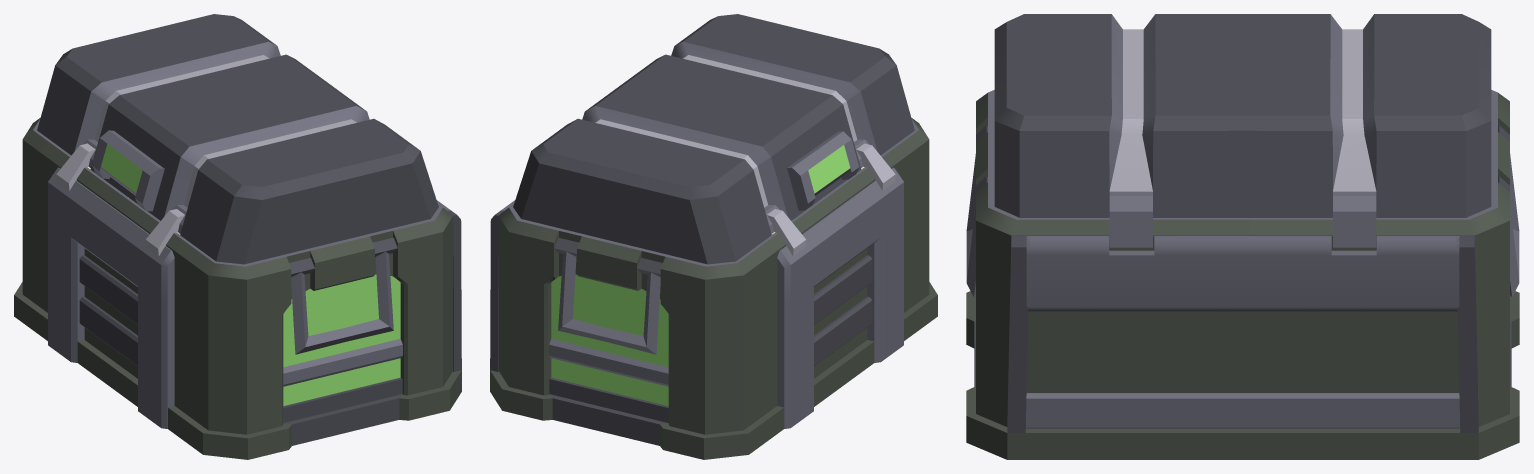
The model's file is AmmoBox.fbx.
3 views of the same model, side by side, from view 1: azimuth 30°, elevation 25°; view 2: azimuth 150°, elevation 25°; view 3: azimuth 270°, elevation 25° (orthographic). The views are drawn at different scales.
Parts seen in each view (by area): view 1: Box, Lid, Handle2; view 2: Box, Lid, Handle1; view 3: Box, Lid, Handle1, Handle2.
Boxes of the visible parts, left/top/right/bottom form: Box: left=14, top=118, right=461, bottom=459; Lid: left=37, top=14, right=438, bottom=264; Handle2: left=291, top=252, right=393, bottom=354; Box: left=490, top=118, right=937, bottom=459; Lid: left=513, top=14, right=914, bottom=264; Handle1: left=558, top=252, right=660, bottom=354; Box: left=966, top=90, right=1519, bottom=459; Lid: left=994, top=14, right=1491, bottom=247; Handle1: left=1510, top=154, right=1519, bottom=296; Handle2: left=966, top=154, right=975, bottom=296.
Size of the model in its own units: 0.0193 by 0.0178 by 0.0282.
1 material, 1 textured.
